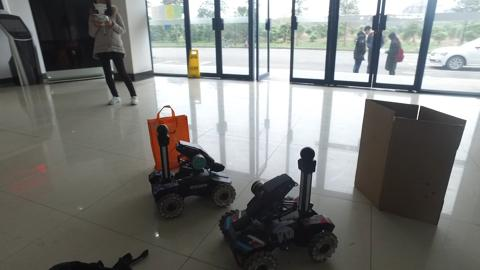box: (359, 96, 456, 225)
chariot: (219, 138, 345, 270), (140, 122, 237, 220)
